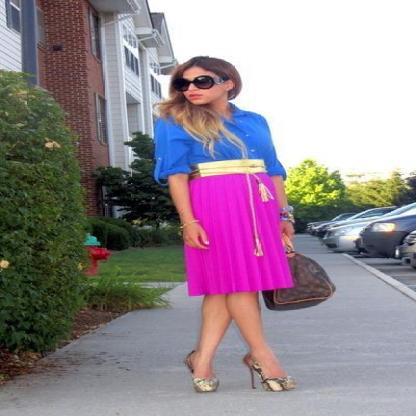bag: (262, 253, 335, 310)
shirt: (153, 105, 285, 182)
shoe: (183, 348, 304, 394)
skirt: (185, 168, 294, 296)
sunglass: (171, 71, 228, 100)
